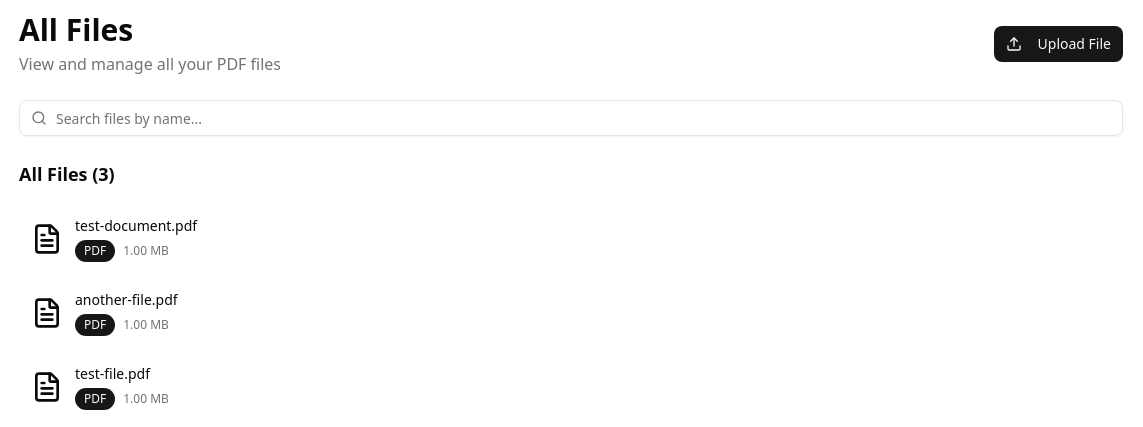
Test case: FilesPage › filters files when searching
Type "test" into the field with placeholder "Search files by name...". click: (571, 118)
box: [19,100,1123,136]
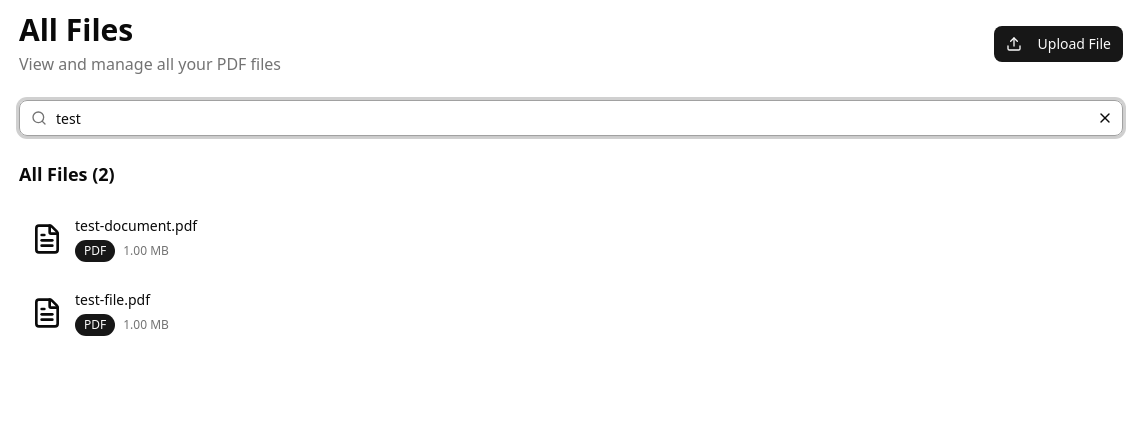
Check: the text "test-document.pdf" is shown, box [75,216,197,235]
Check: the button "another-file.pdf" is gone
